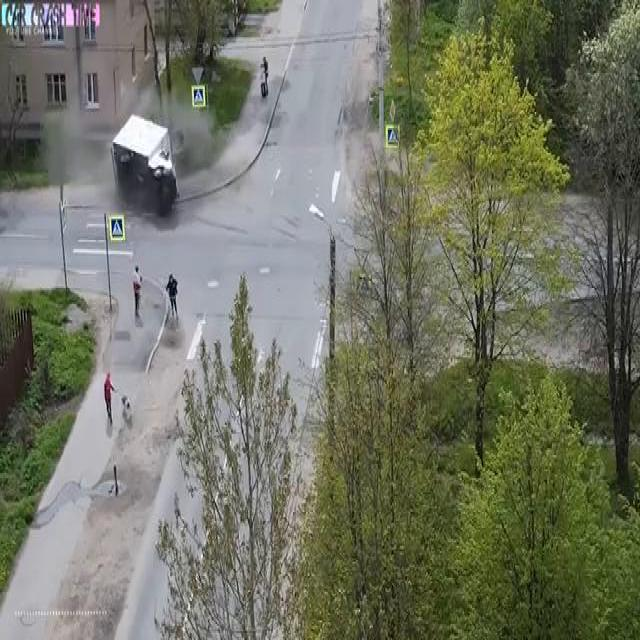severe: (107, 107, 182, 220)
